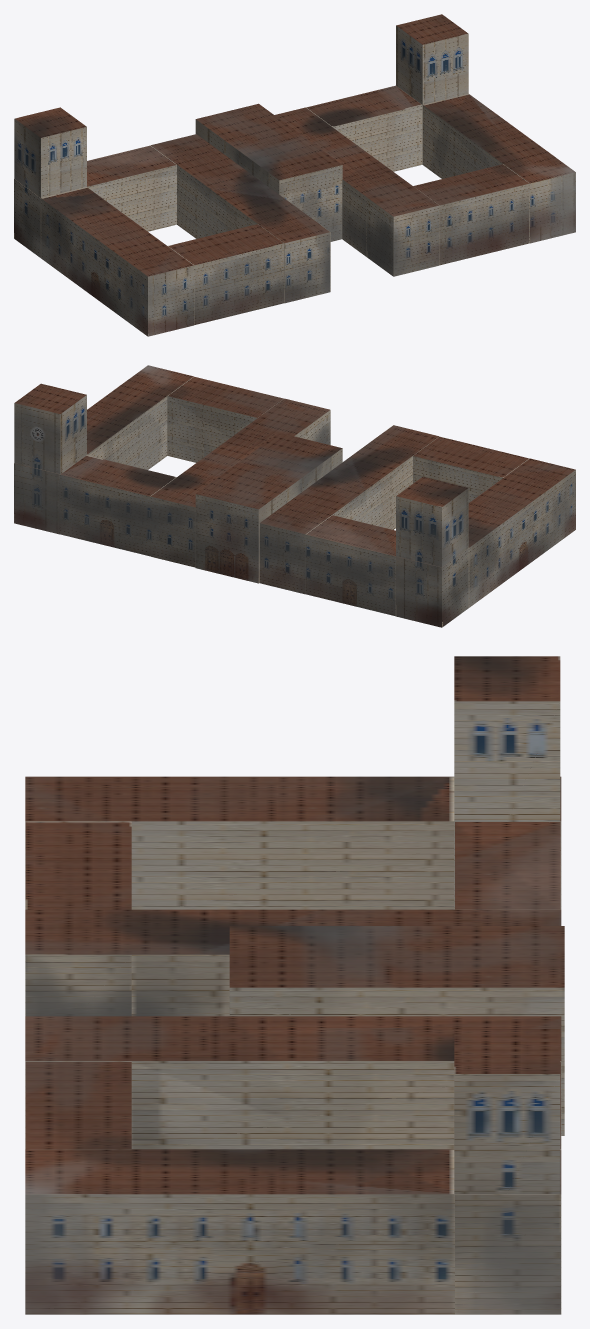
The model's file is universitatlvl1low.fbx.
The picture shows the model from 3 angles, top to bottom: view 1: azimuth 30°, elevation 25°; view 2: azimuth 150°, elevation 25°; view 3: azimuth 270°, elevation 25°; orthographic projection. The views are drawn at different scales.
Visible parts, largest first — view 1: Cube.008; view 2: Cube.008; view 3: Cube.008.
Boxes of the visible parts, x1,y1,x2,y2 form: Cube.008: (14, 14, 575, 336); Cube.008: (14, 365, 575, 627); Cube.008: (25, 656, 564, 1314).
Size of the model in its own units: 6789 by 1822 by 3702.
